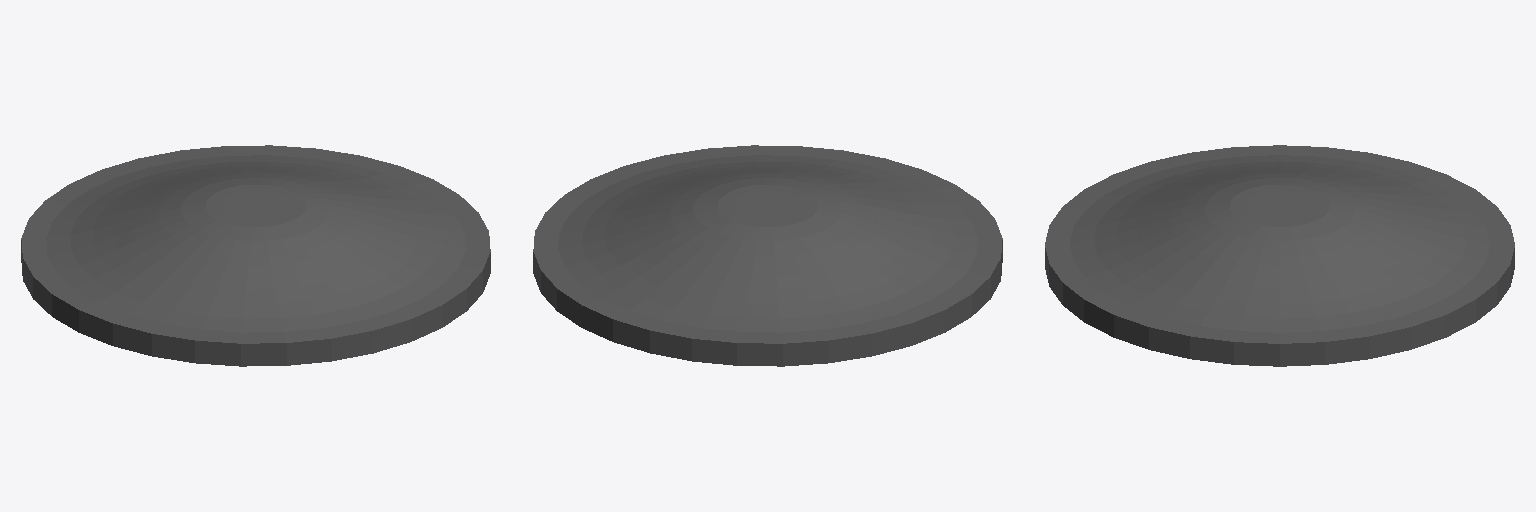
Rendered from alien_spaceship.obj.
3 views of the same model, side by side, from view 1: azimuth 30°, elevation 25°; view 2: azimuth 150°, elevation 25°; view 3: azimuth 270°, elevation 25° (orthographic).
Visible parts, largest first — view 1: alien_spacecraft_Circle; view 2: alien_spacecraft_Circle; view 3: alien_spacecraft_Circle.
Boxes of the visible parts, <box> form: alien_spacecraft_Circle: <box>21,145,490,366</box>; alien_spacecraft_Circle: <box>533,145,1002,366</box>; alien_spacecraft_Circle: <box>1045,145,1514,366</box>.
Bounding box in the file's own units: 21.36 × 5.07 × 21.36.